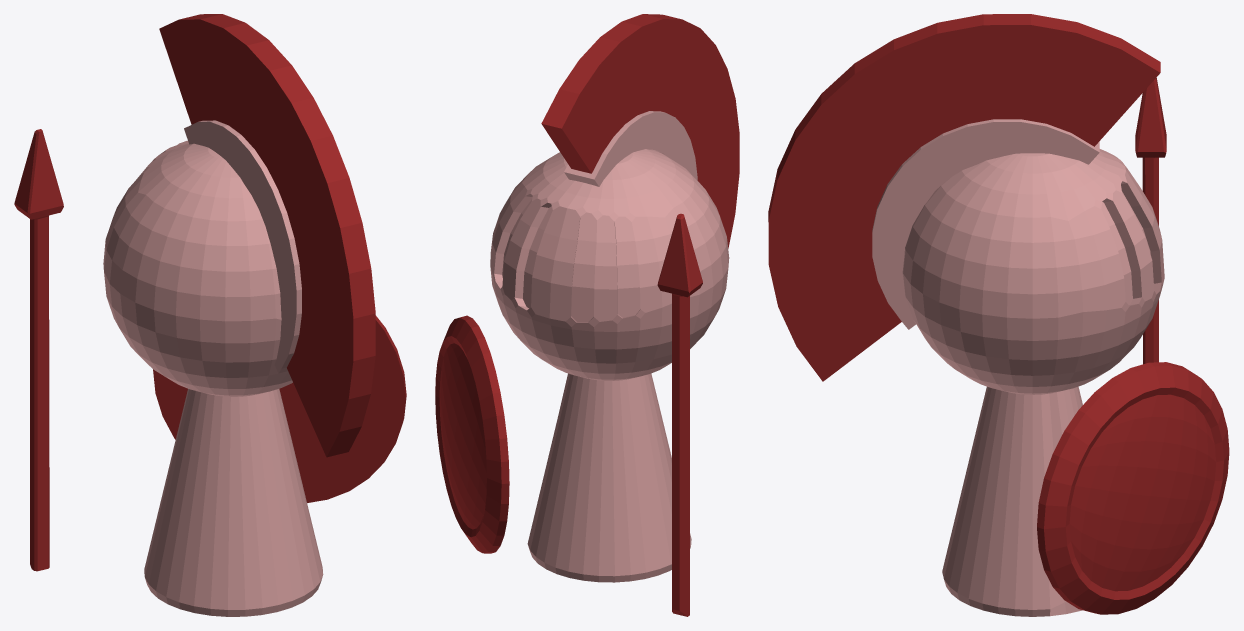
The model's file is Knight_Red_Walk_01.fbx.
3 renders of one model, left to right at view 1: azimuth 30°, elevation 25°; view 2: azimuth 150°, elevation 25°; view 3: azimuth 270°, elevation 25°, orthographic. The views are drawn at different scales.
Visible parts, largest first — view 1: main body.002; view 2: main body.002; view 3: main body.002.
Boxes of the visible parts, x1,y1,x2,y2 form: main body.002: (14,14,406,616); main body.002: (435,14,739,616); main body.002: (768,14,1229,616).
Bounding box in the file's own units: 293 × 468 × 349.
Materials: 1 (1 with a texture image).
